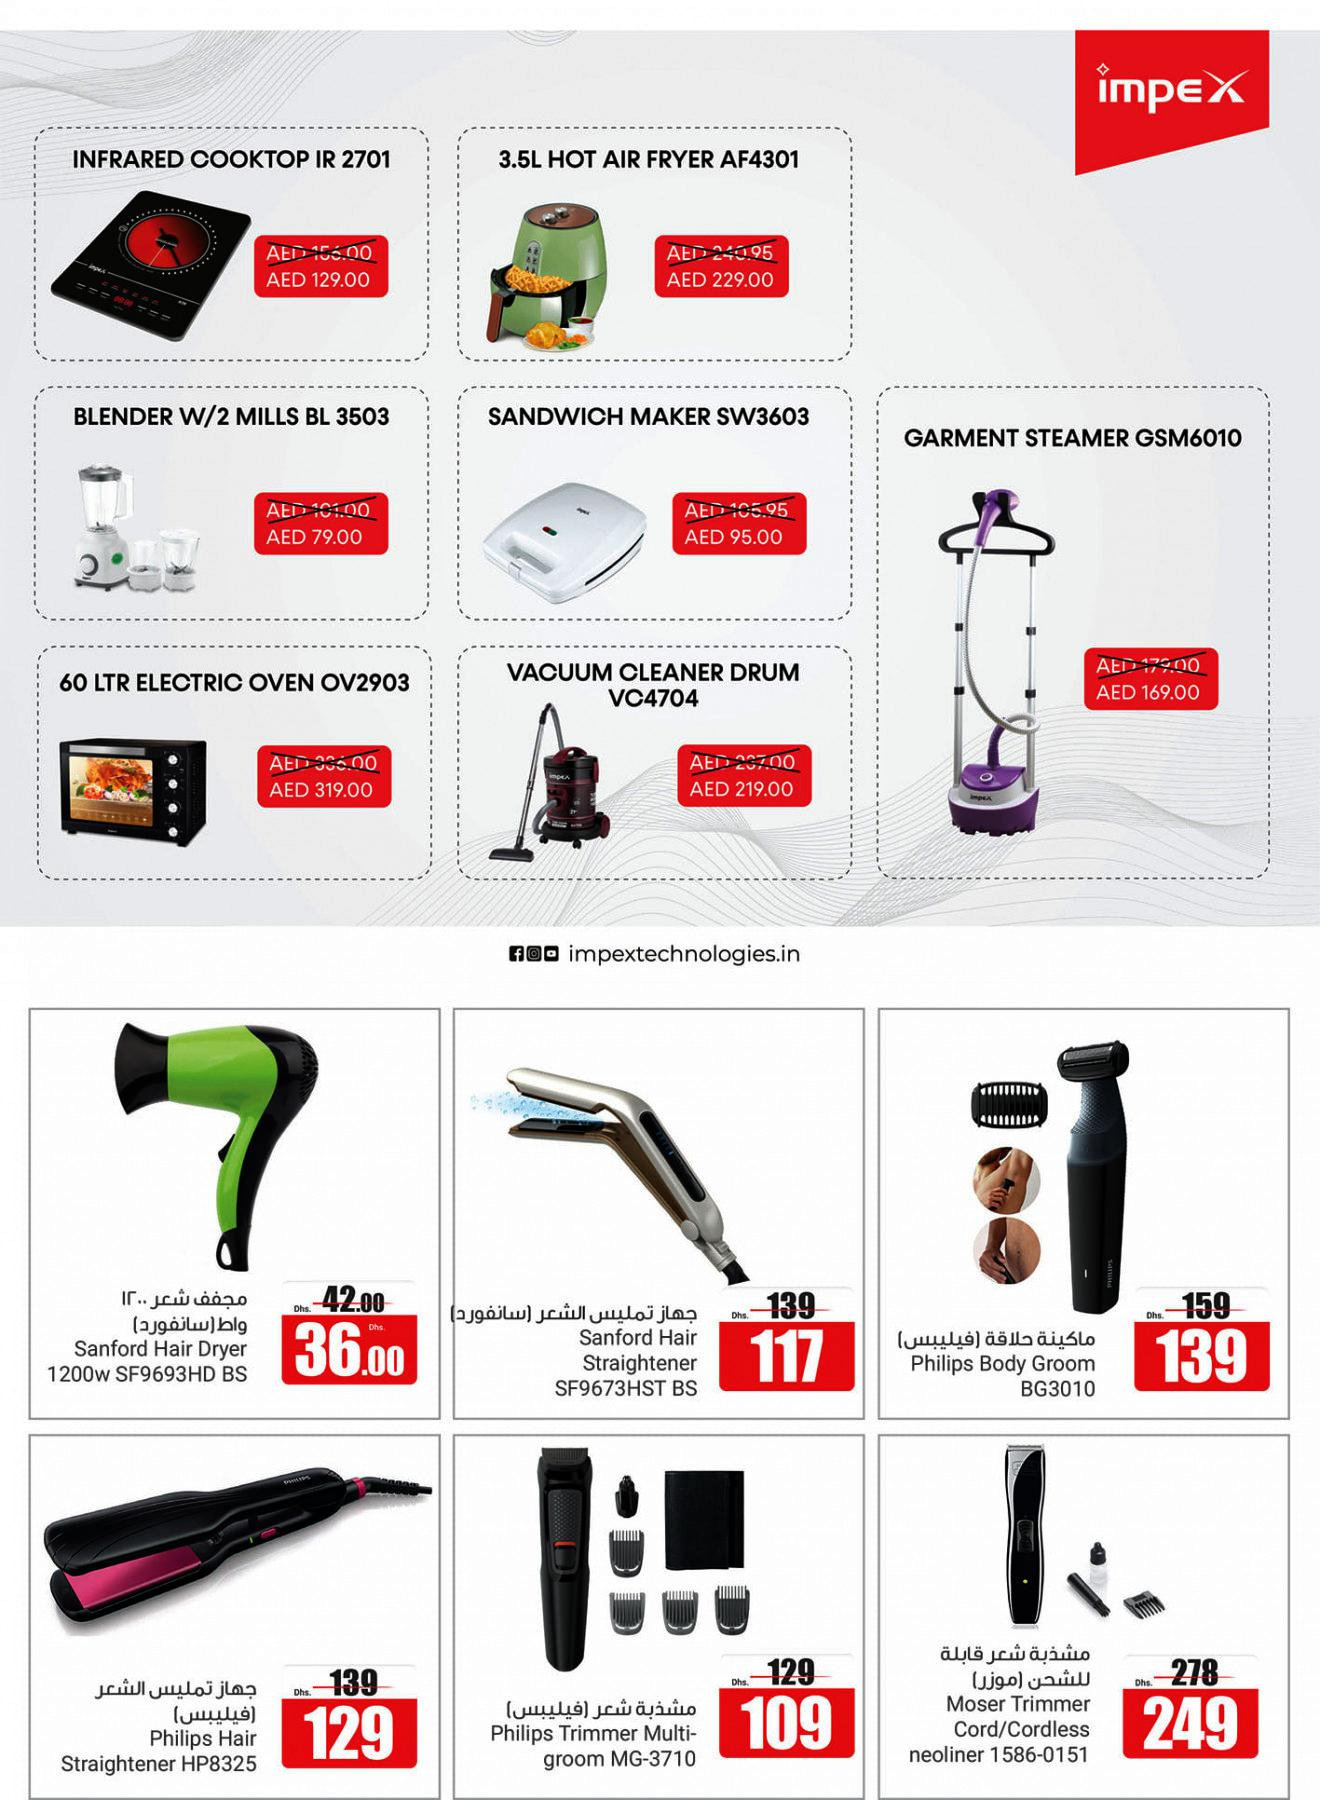text: (481, 650, 833, 721), (891, 406, 1257, 474), (54, 392, 405, 446), (51, 658, 422, 709), (471, 395, 829, 446), (56, 135, 408, 185), (898, 1689, 1100, 1774), (485, 135, 816, 185), (524, 1324, 706, 1403), (478, 1720, 715, 1777), (42, 1333, 271, 1389), (897, 1350, 1110, 1404), (84, 1280, 267, 1340), (72, 1676, 268, 1727), (925, 1640, 1102, 1694), (435, 1301, 707, 1329), (493, 1691, 706, 1722), (890, 1322, 1103, 1350)
